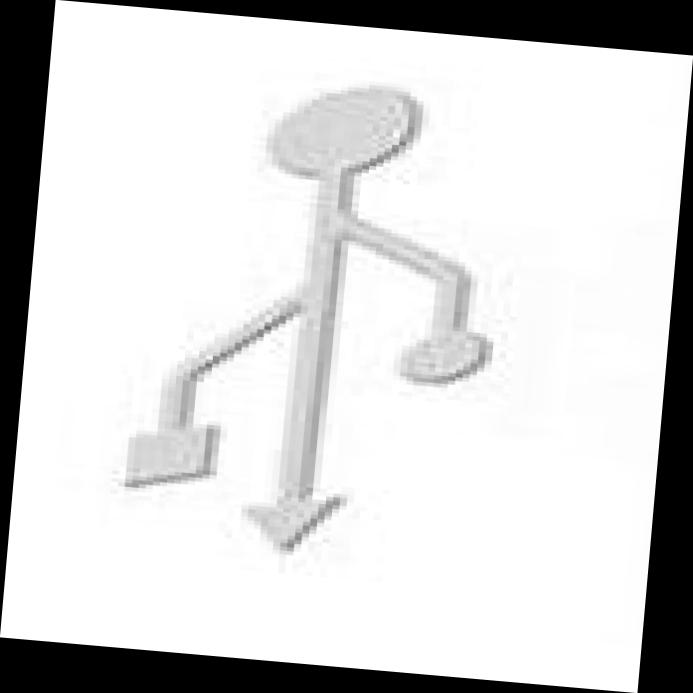usb: (0, 0, 693, 689)
